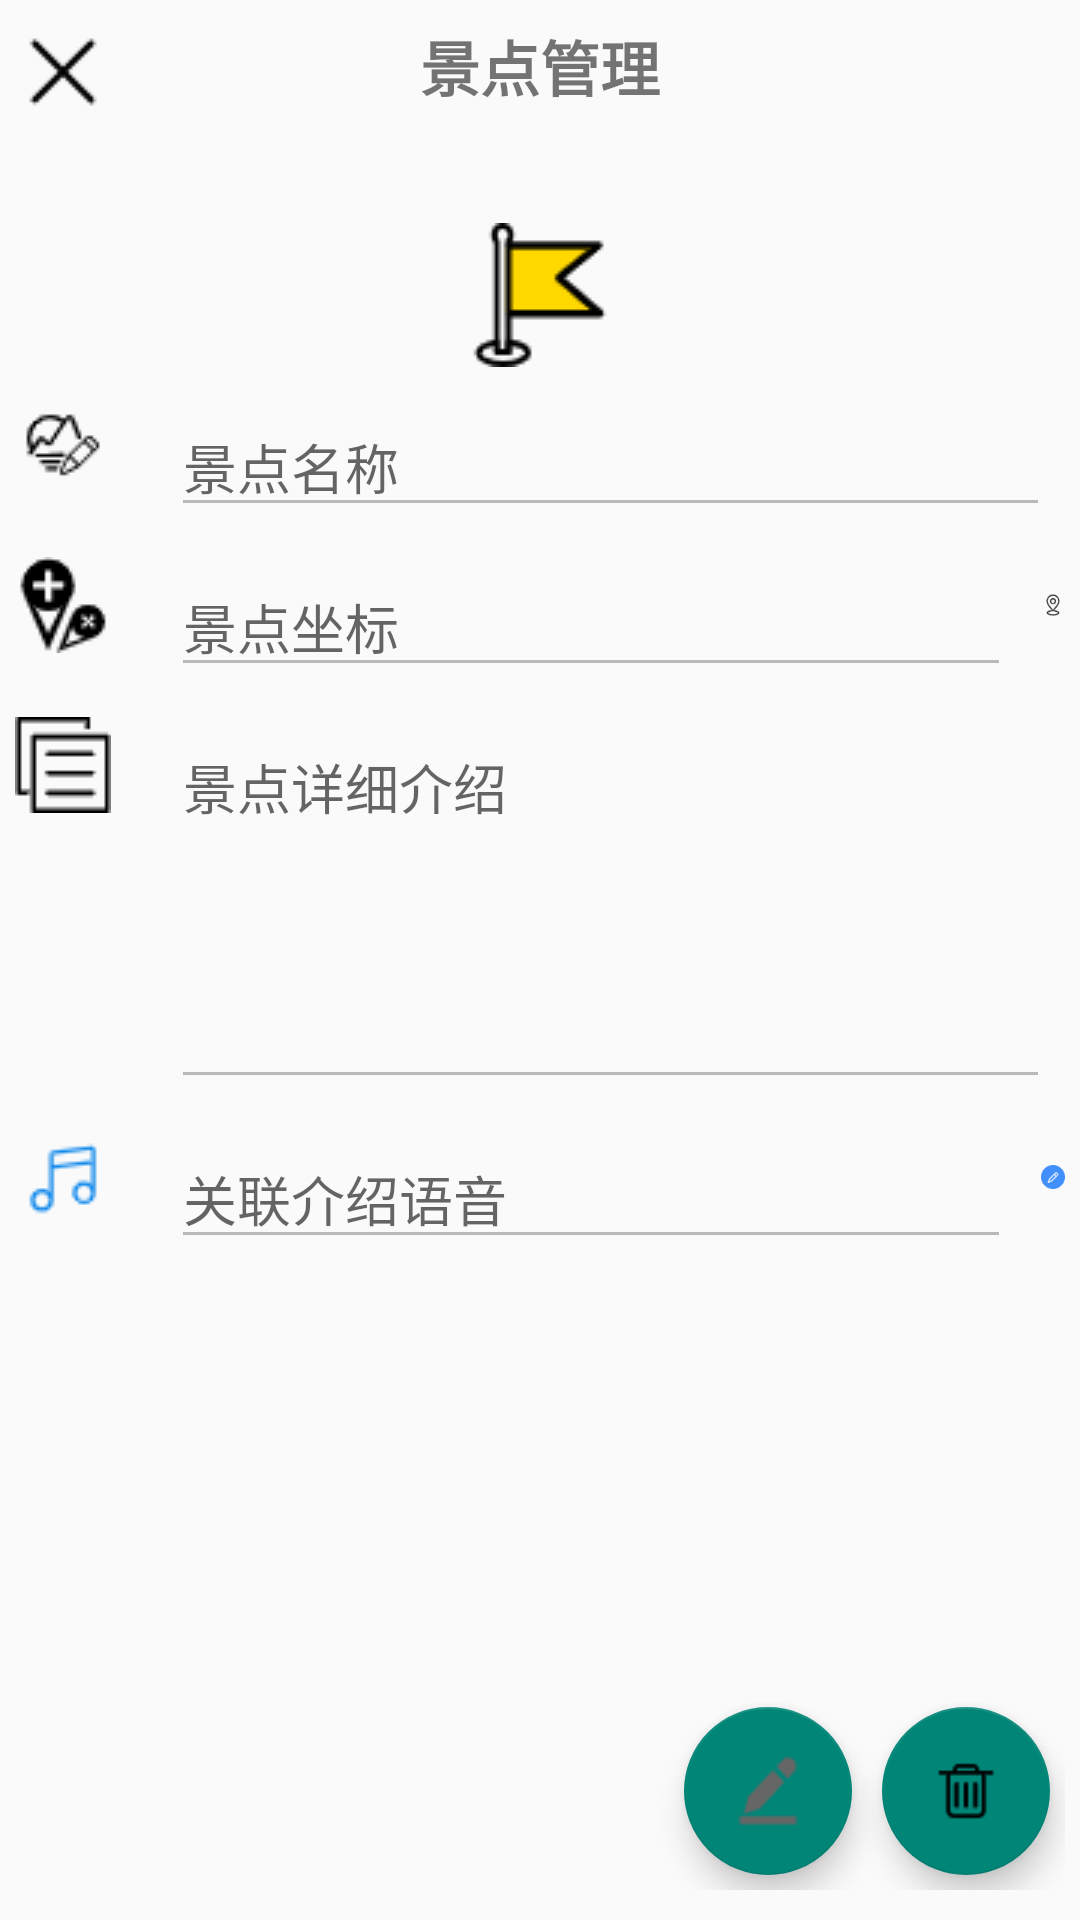

Icon click points for this 1080x1920 phone screenshot, format (x=x, y=y):
back: (x=63, y=72)
delete: (x=966, y=1791)
edit: (x=768, y=1791)
music: (x=63, y=1179)
sight coordinate: (x=63, y=605)
sight introduce: (x=63, y=765)
sight name: (x=63, y=445)
spot: (x=539, y=295)
voice edit: (x=1053, y=1177)
